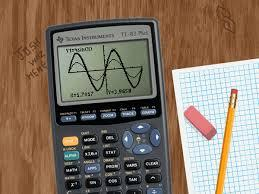Calculator: (41, 12, 173, 194)
